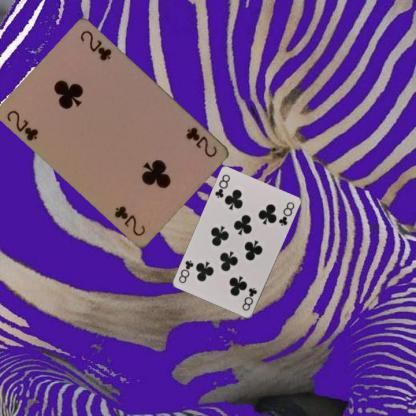2c: (183, 124, 219, 159), (5, 106, 40, 142)
8c: (238, 285, 258, 312), (213, 172, 231, 199)
